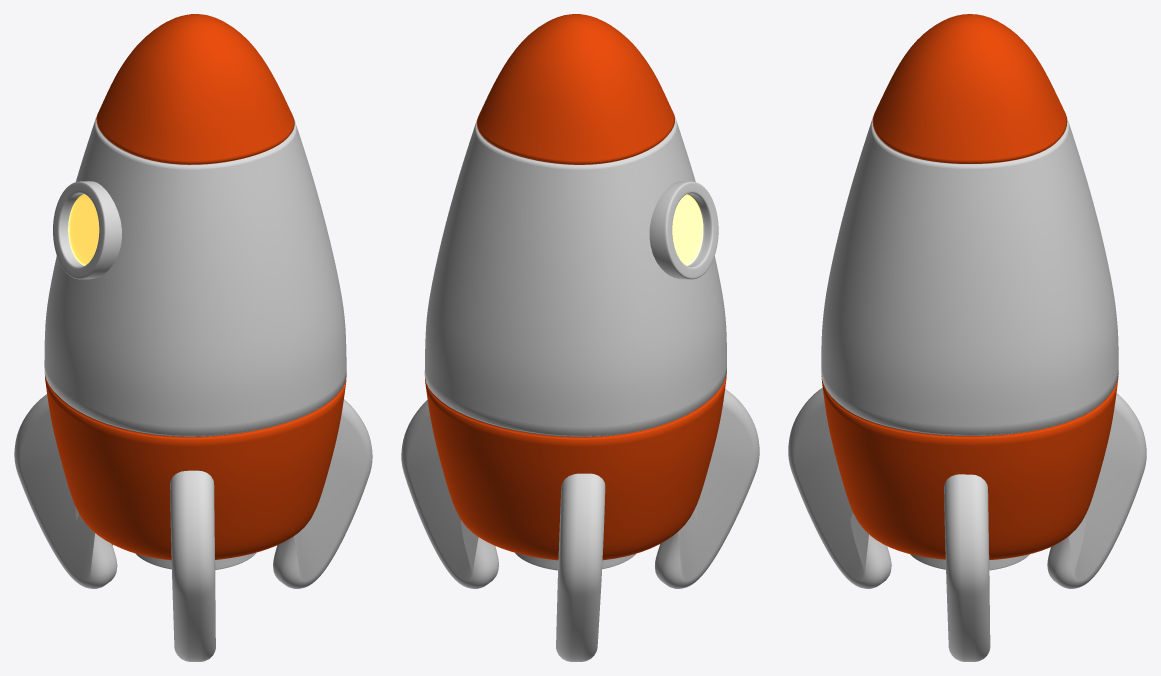
File: rocket.fbx
3 renders of one model, left to right at view 1: azimuth 30°, elevation 25°; view 2: azimuth 150°, elevation 25°; view 3: azimuth 270°, elevation 25°, orthographic.
Visible parts, largest first — view 1: Cube, BezierCircle, Cylinder; view 2: Cube, BezierCircle, Cylinder; view 3: Cube, BezierCircle.
Boxes of the visible parts, x1,y1,x2,y2 form: Cube: (44, 14, 346, 569); BezierCircle: (14, 394, 372, 661); Cylinder: (53, 181, 121, 279); Cube: (424, 14, 726, 570); BezierCircle: (401, 389, 759, 661); Cylinder: (649, 181, 718, 279); Cube: (821, 14, 1118, 570); BezierCircle: (788, 387, 1146, 661).
Size of the model in its own units: 282 by 530 by 291.
